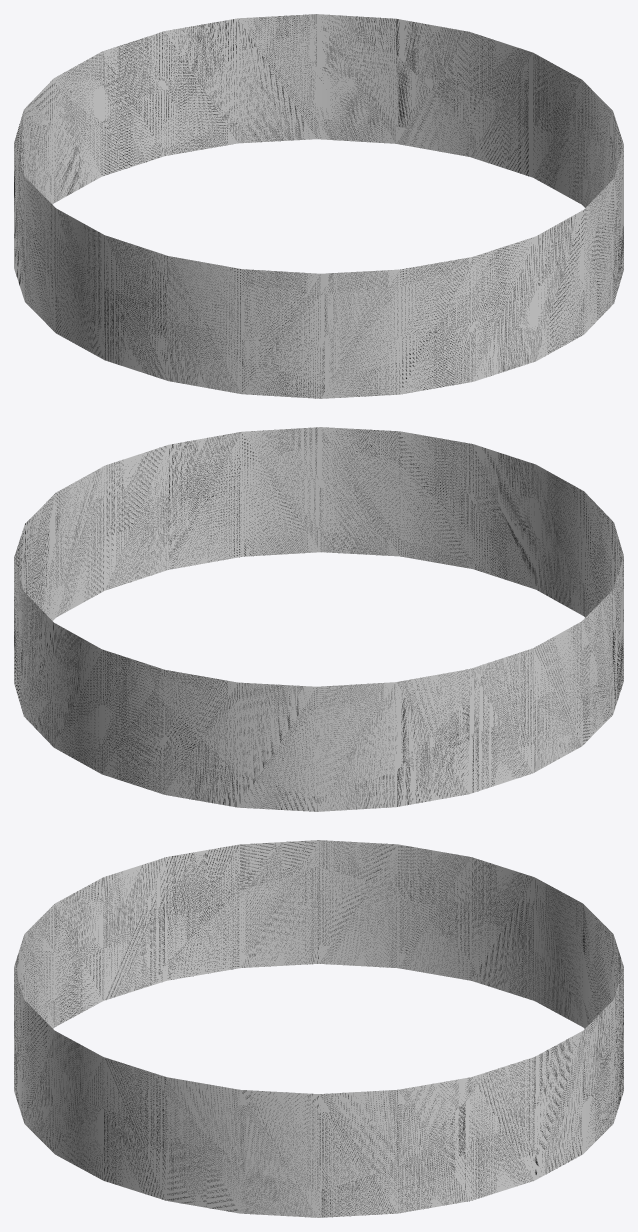
The model's file is original-157.obj.
3 views of the same model, one above another, from view 1: azimuth 30°, elevation 25°; view 2: azimuth 150°, elevation 25°; view 3: azimuth 270°, elevation 25° (orthographic).
Parts seen in each view (by area): view 1: Group27/mesh42/mesh42-geometry/material_1#mesh42-geometry; view 2: Group27/mesh42/mesh42-geometry/material_1#mesh42-geometry; view 3: Group27/mesh42/mesh42-geometry/material_1#mesh42-geometry.
Part boxes in pixels (x1,y1,x2,y2): Group27/mesh42/mesh42-geometry/material_1#mesh42-geometry: (14,14,623,398); Group27/mesh42/mesh42-geometry/material_1#mesh42-geometry: (14,427,623,811); Group27/mesh42/mesh42-geometry/material_1#mesh42-geometry: (14,840,623,1217).
Size of the model in its own units: 0.0753 by 0.0171 by 0.0764.
2 materials, 1 textured.
